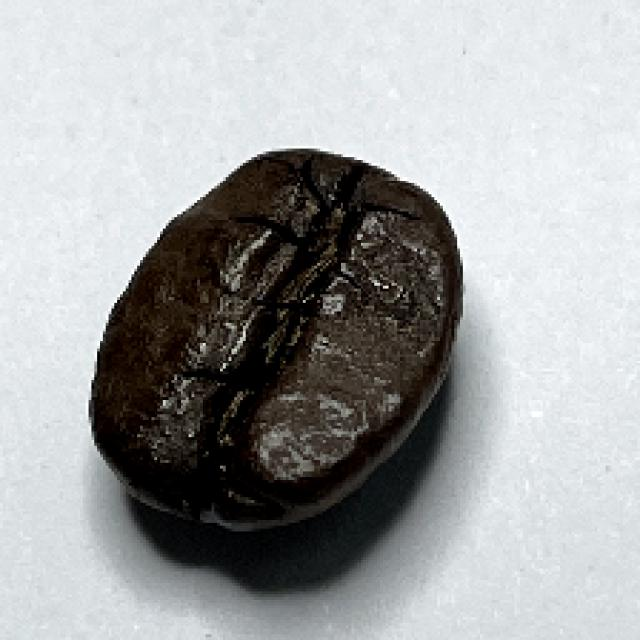bean: (85, 144, 462, 534)
